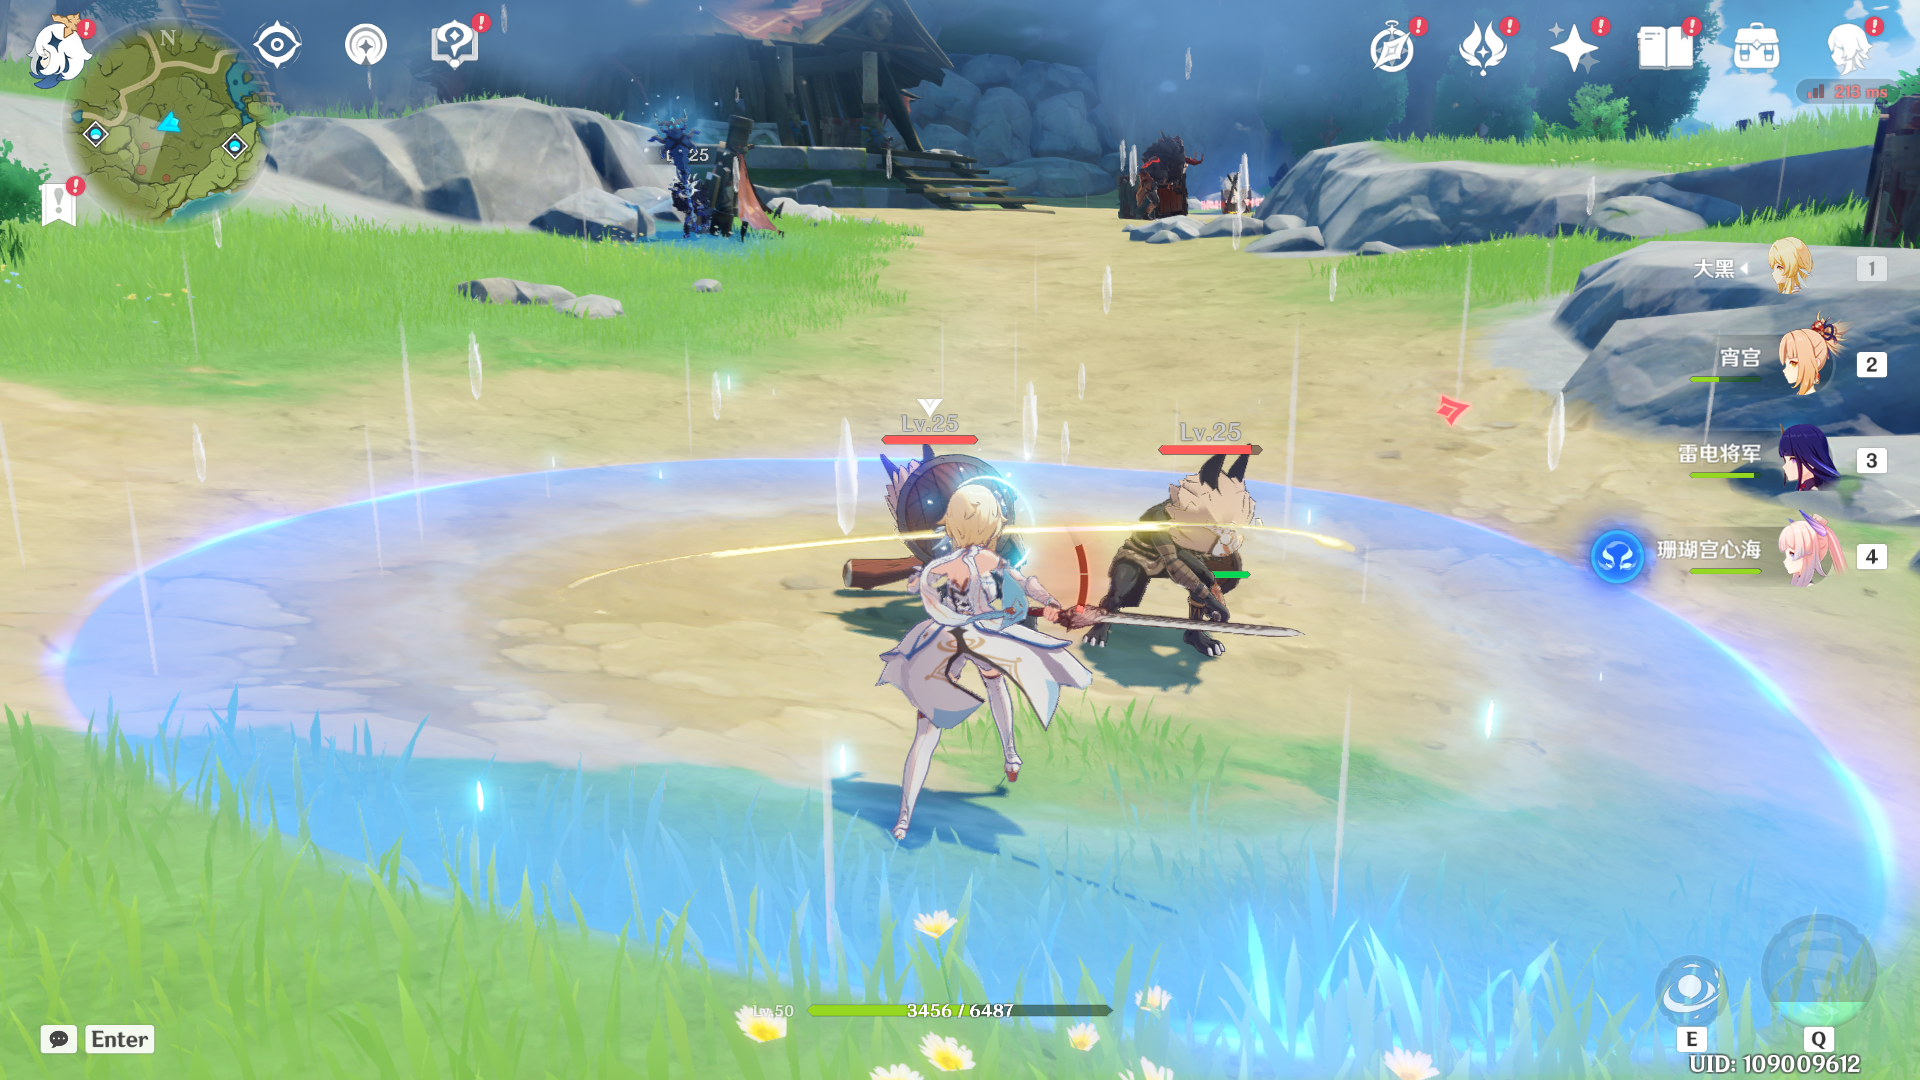bighili: (1108, 116, 1220, 243)
character: (870, 481, 1104, 856)
hili: (1098, 439, 1302, 709), (857, 436, 1047, 632), (658, 153, 738, 244)
